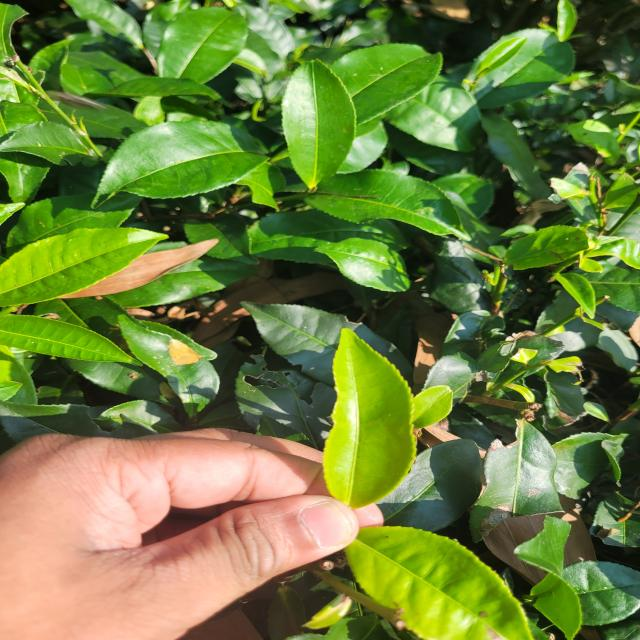Catagory A(1-2 days): (311, 323, 427, 508)
